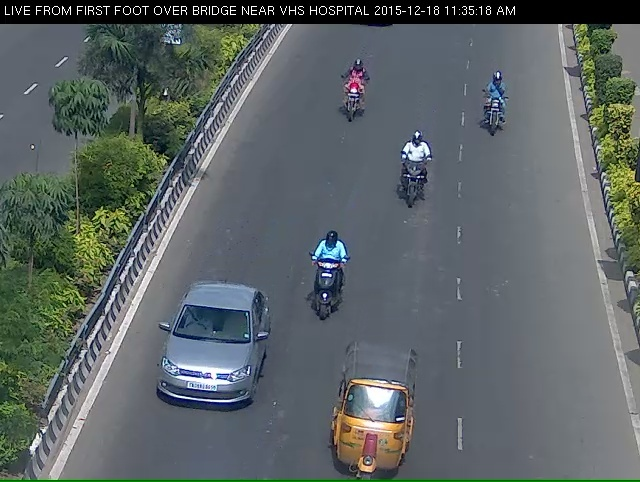Auto: (328, 374, 421, 482)
Car: (145, 314, 266, 446)
Person: (295, 249, 345, 357), (379, 140, 441, 227), (477, 77, 521, 170), (329, 62, 365, 145)
